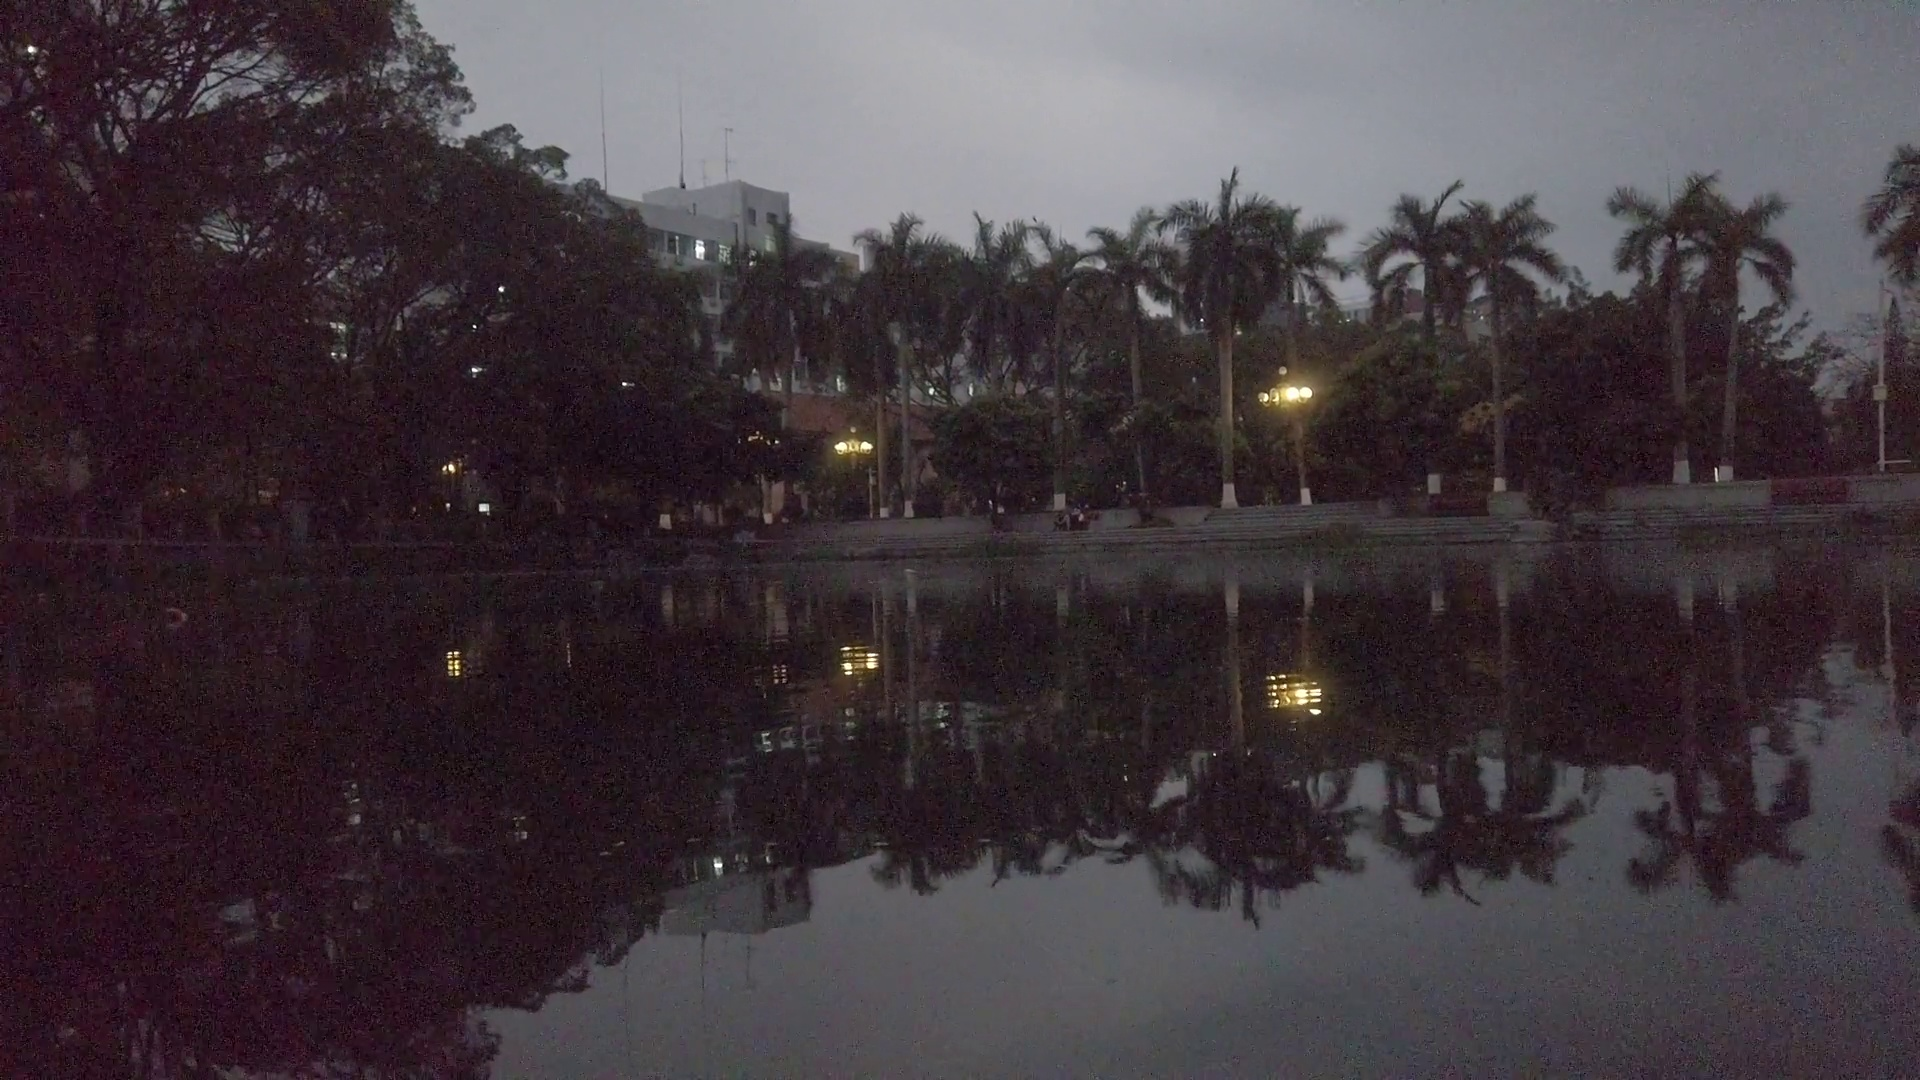bottle: (164, 607, 190, 624), (899, 566, 918, 576)
